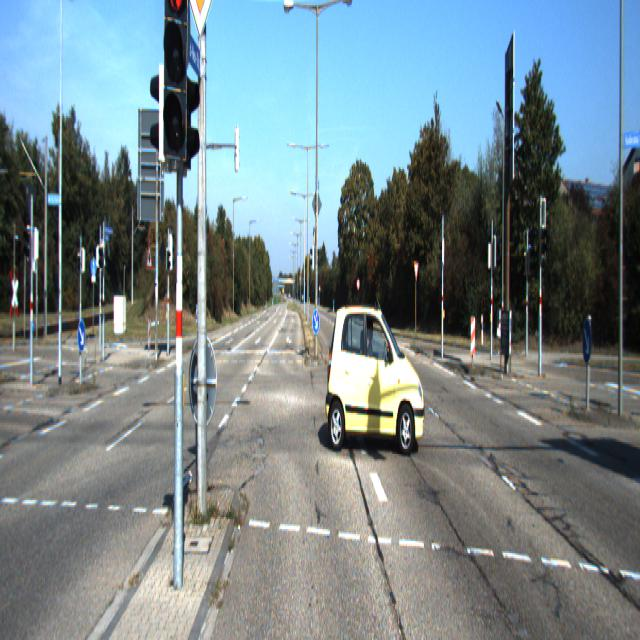Car: (325, 301, 426, 457)
